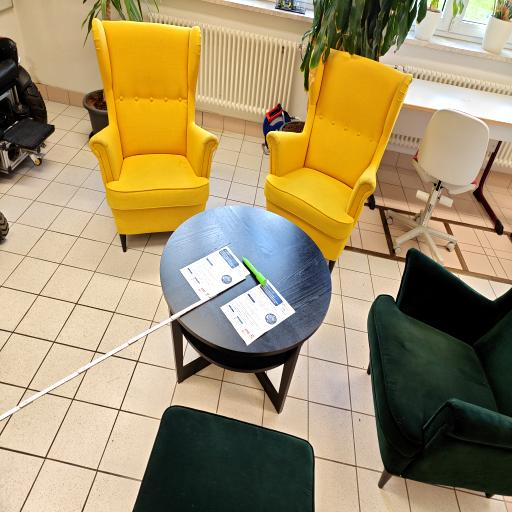Probe-Detection: (242, 257, 267, 286)
